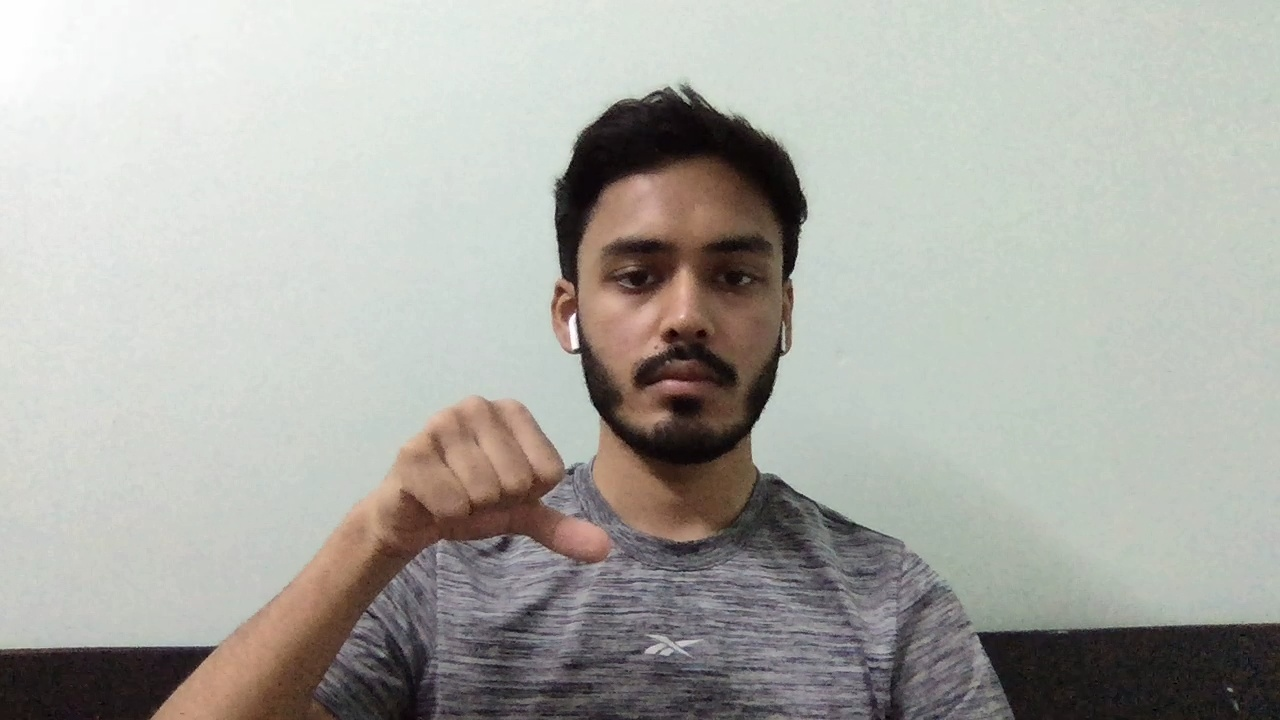Yes: (346, 379, 628, 594)
